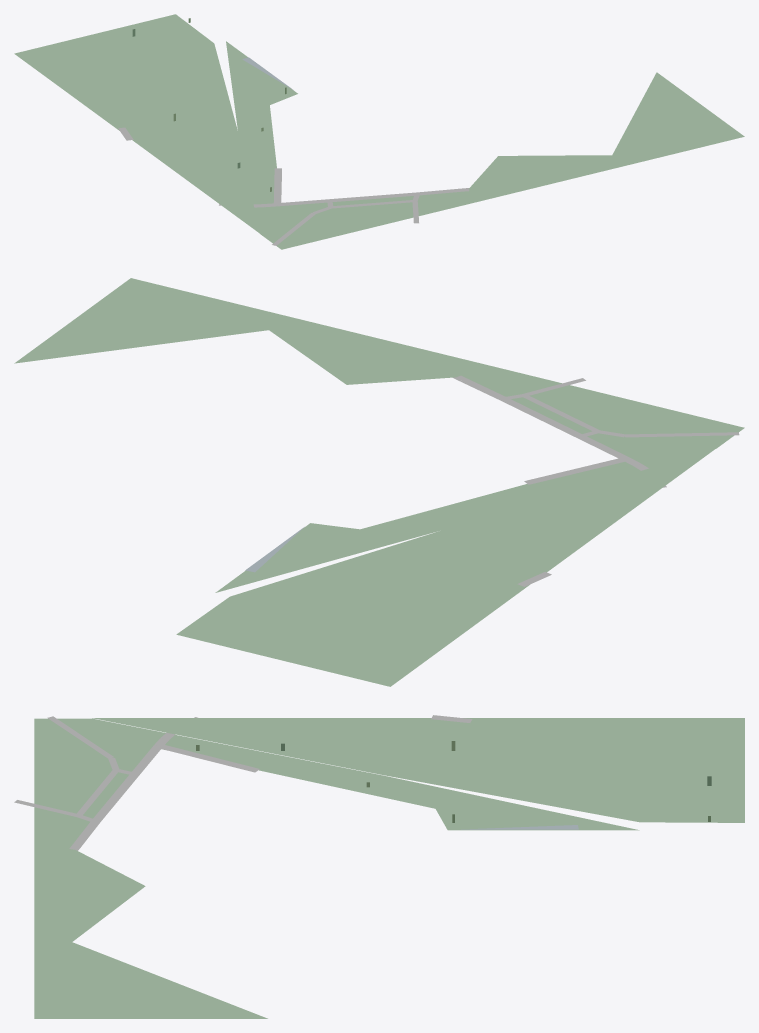
3 renders of one model, top to bottom at view 1: azimuth 30°, elevation 25°; view 2: azimuth 150°, elevation 25°; view 3: azimuth 270°, elevation 25°, orthographic. The views are drawn at different scales.
Size of the model in its own units: 505 by 9 by 514.
